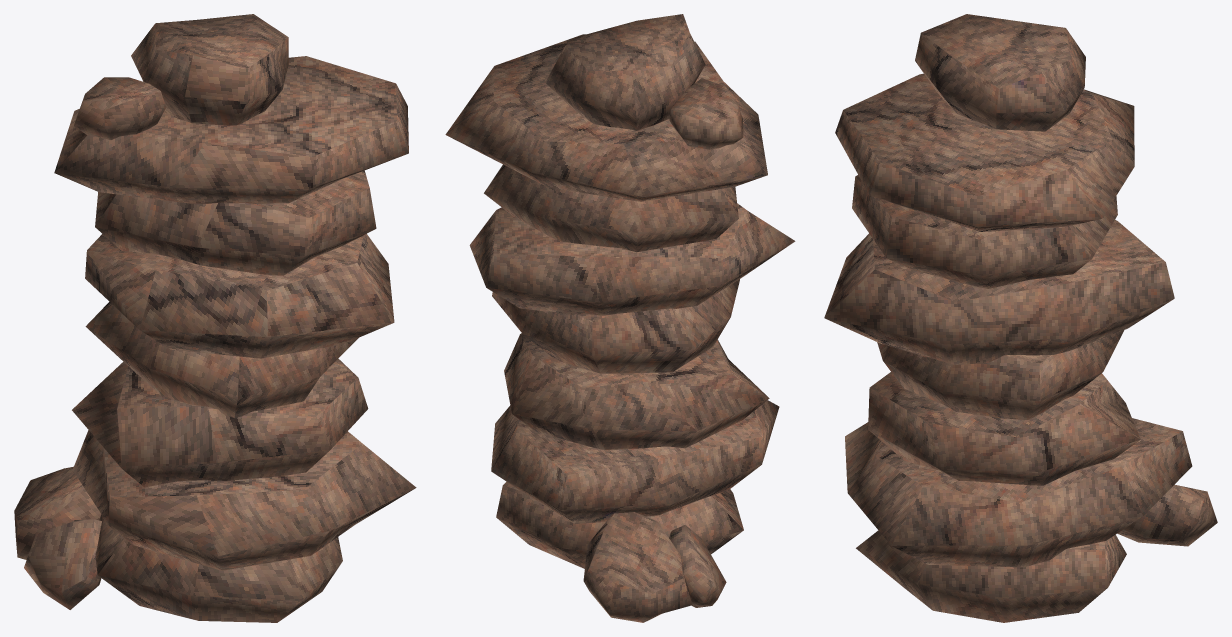
Rendered from rocktower.glb.
3 renders of one model, left to right at view 1: azimuth 30°, elevation 25°; view 2: azimuth 150°, elevation 25°; view 3: azimuth 270°, elevation 25°, orthographic. The views are drawn at different scales.
Parts seen in each view (by area): view 1: Cube; view 2: Cube; view 3: Cube.
Boxes of the visible parts, <box> form: Cube: <box>14,14,416,622</box>; Cube: <box>445,14,795,622</box>; Cube: <box>824,14,1217,622</box>.
Bounding box in the file's own units: 8.42 × 13.8 × 8.77.
1 material, 1 textured.
